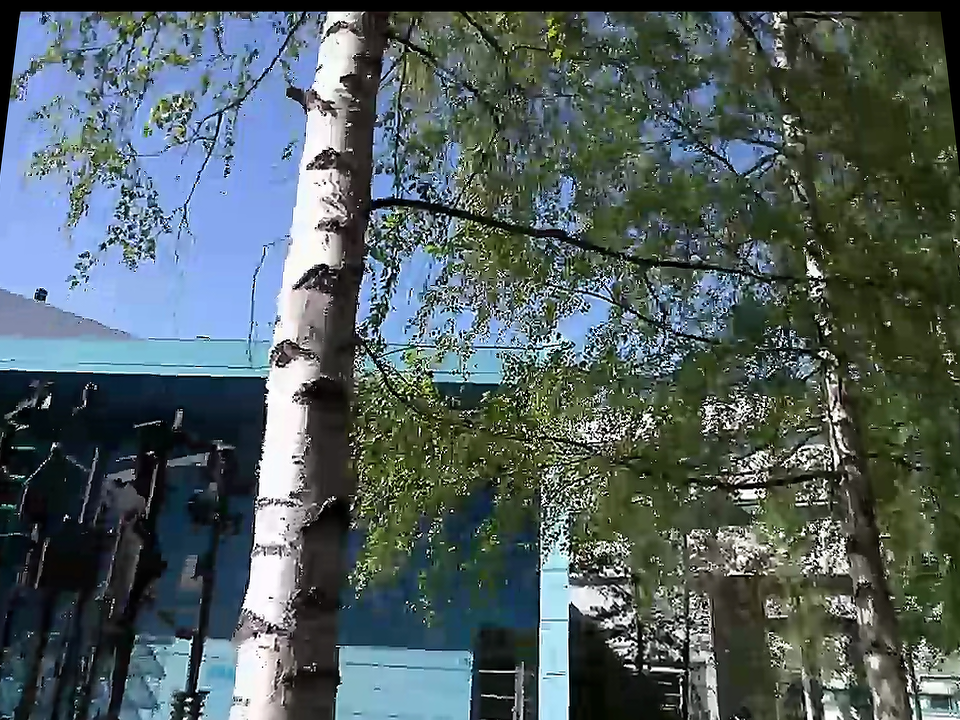branch: (423, 192, 608, 257), (634, 238, 775, 291), (663, 452, 823, 497), (579, 229, 682, 280)
trunk: (219, 285, 349, 710), (277, 67, 369, 337), (829, 486, 926, 715), (796, 254, 882, 484), (300, 3, 380, 166)
